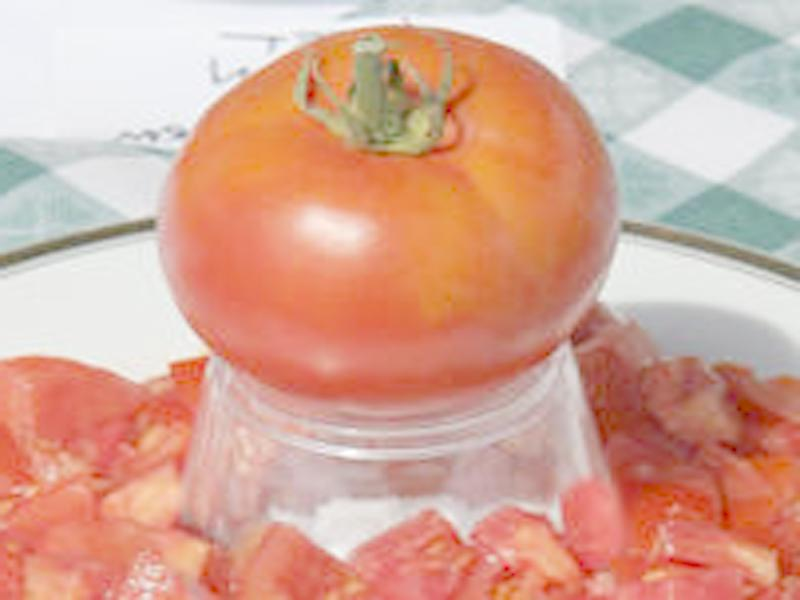Tomato: (153, 21, 621, 405)
